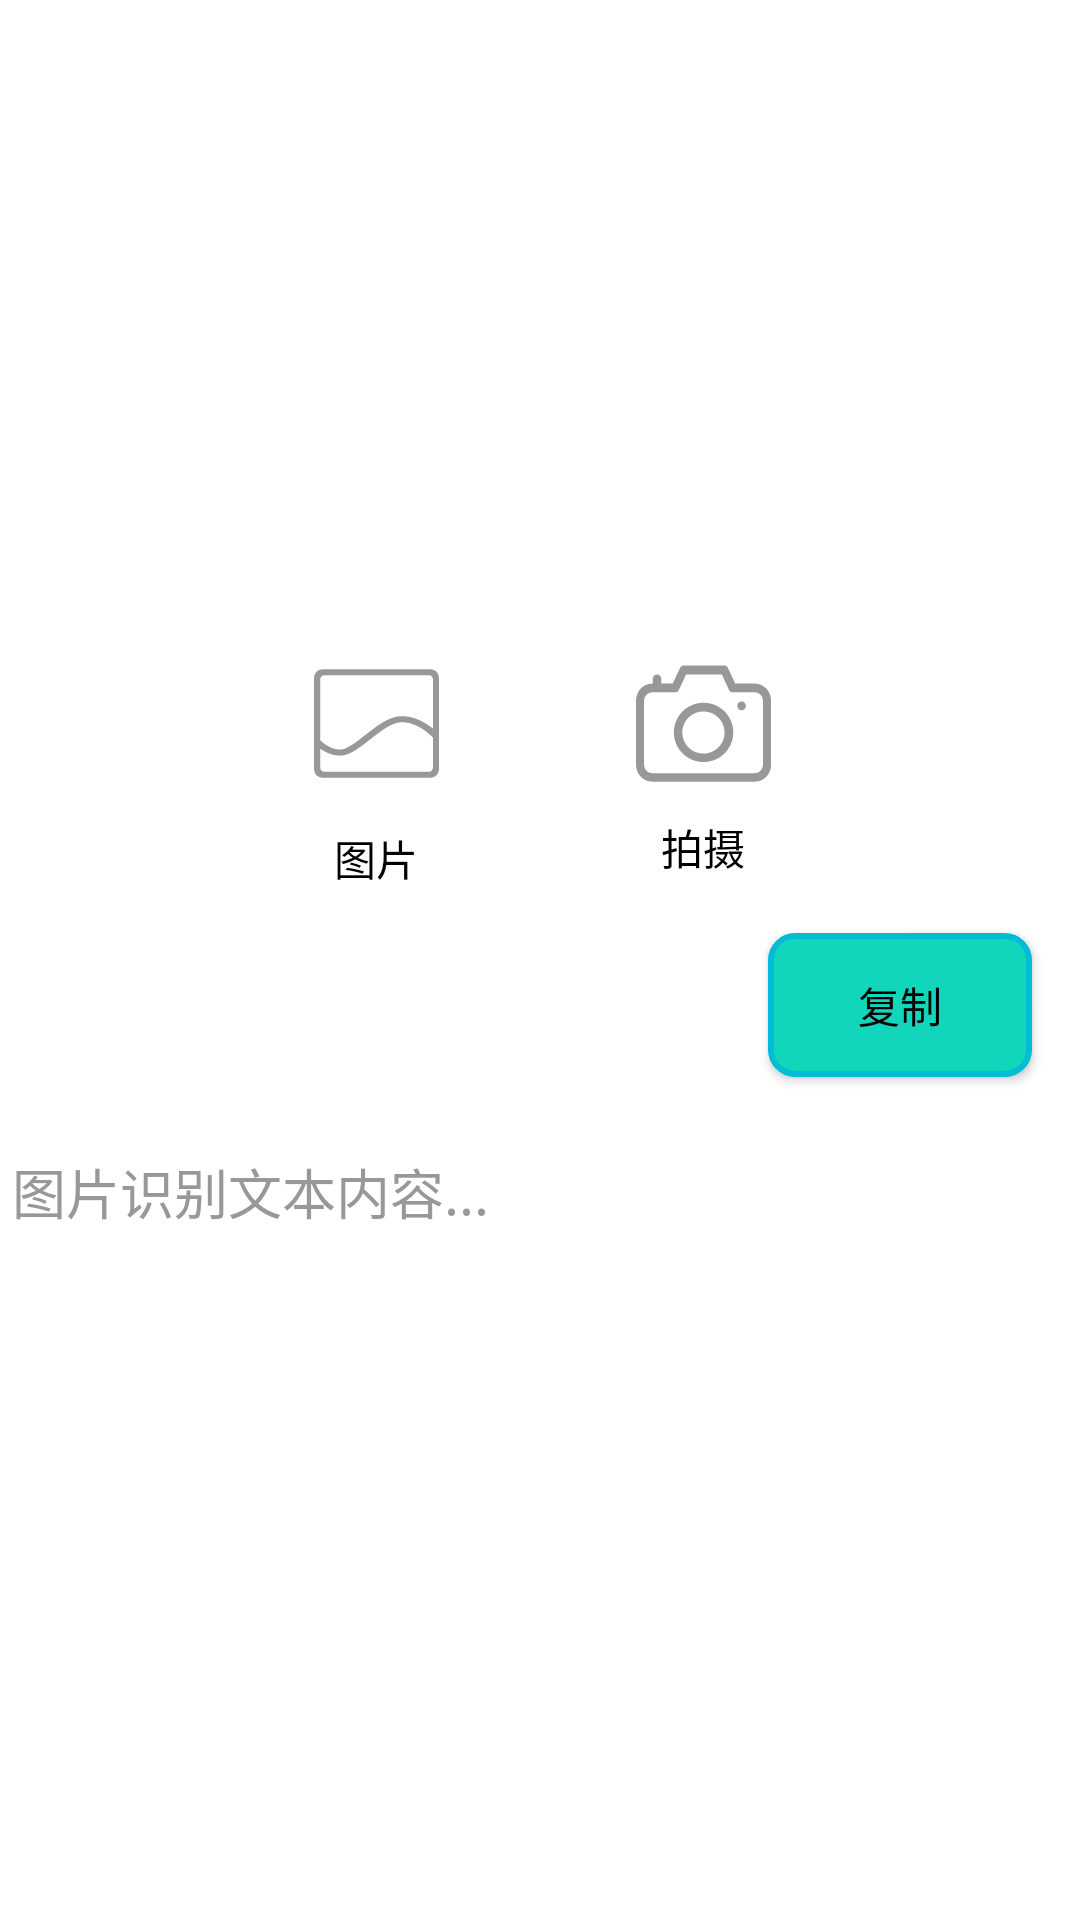

Screen size 1080x1920. Icon name, then its box in pixels as (x1, y1, x2, y2):
图库上传: (314, 669, 439, 778)
